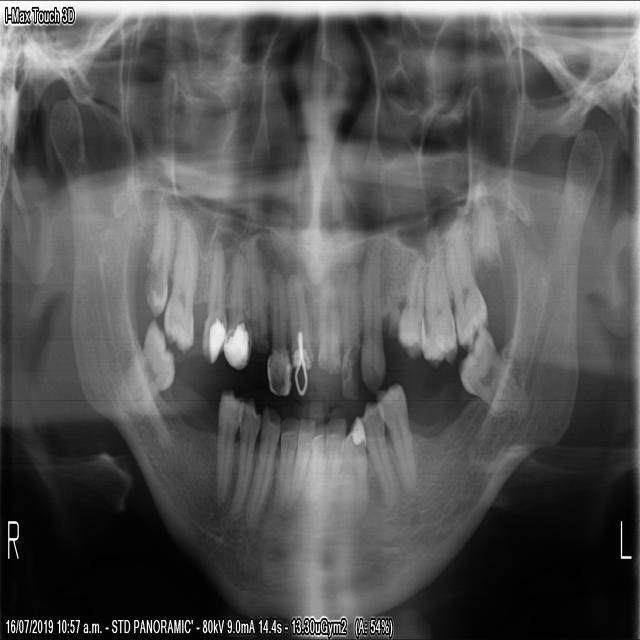LCD: (334, 417, 365, 507)
LCU: (360, 239, 388, 392)
LID: (320, 413, 344, 519), (298, 421, 326, 507)
LIU: (311, 267, 341, 404), (341, 256, 362, 409)
LMD: (459, 330, 529, 418)
LMU: (441, 198, 493, 356), (421, 220, 461, 368)
LPMD: (378, 378, 417, 495), (362, 395, 398, 510)
LPMU: (395, 240, 427, 359)
RCD: (244, 404, 281, 533)
RCU: (246, 247, 268, 352)
RID: (281, 412, 314, 522), (269, 413, 299, 519)
RIU: (264, 262, 290, 398), (286, 267, 312, 402)
RMD: (112, 317, 175, 412)
RMU: (162, 212, 200, 352), (142, 200, 175, 319)
RPMD: (224, 392, 261, 521), (216, 386, 243, 507)
RPMU: (198, 232, 225, 365), (221, 248, 249, 374)
